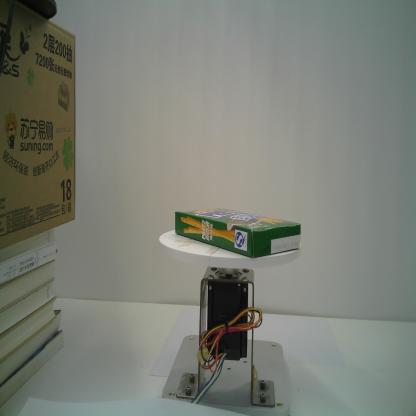Dessert: (174, 206, 302, 260)
